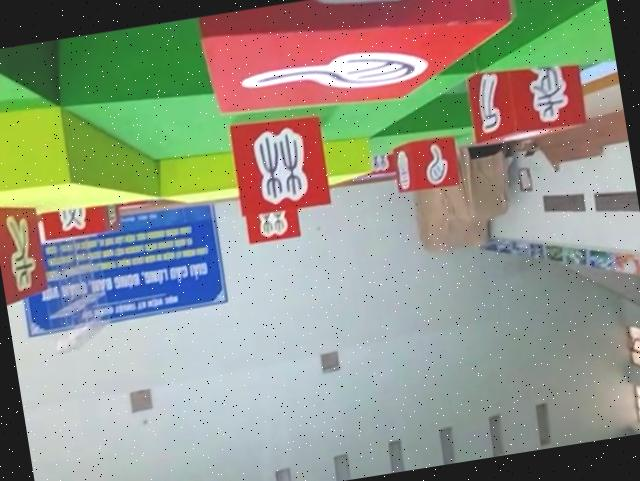R2 Fake: (198, 0, 523, 127), (466, 54, 589, 144), (229, 112, 332, 218), (0, 197, 49, 304), (391, 134, 461, 193)
